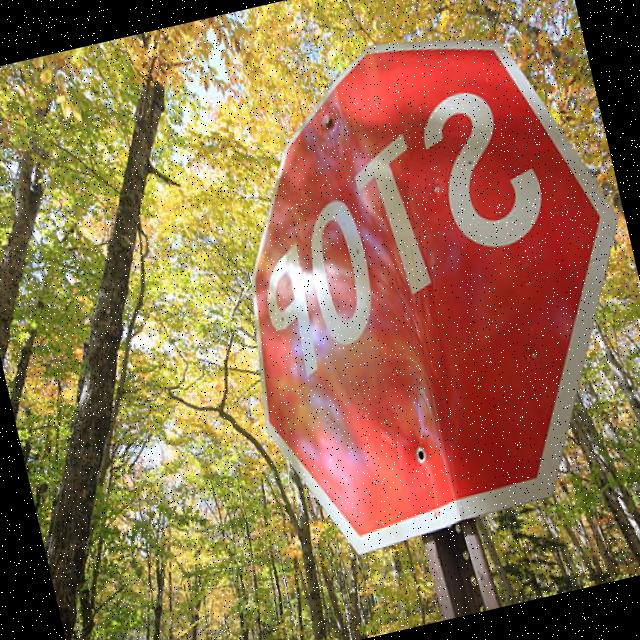stop: (174, 0, 640, 575)
